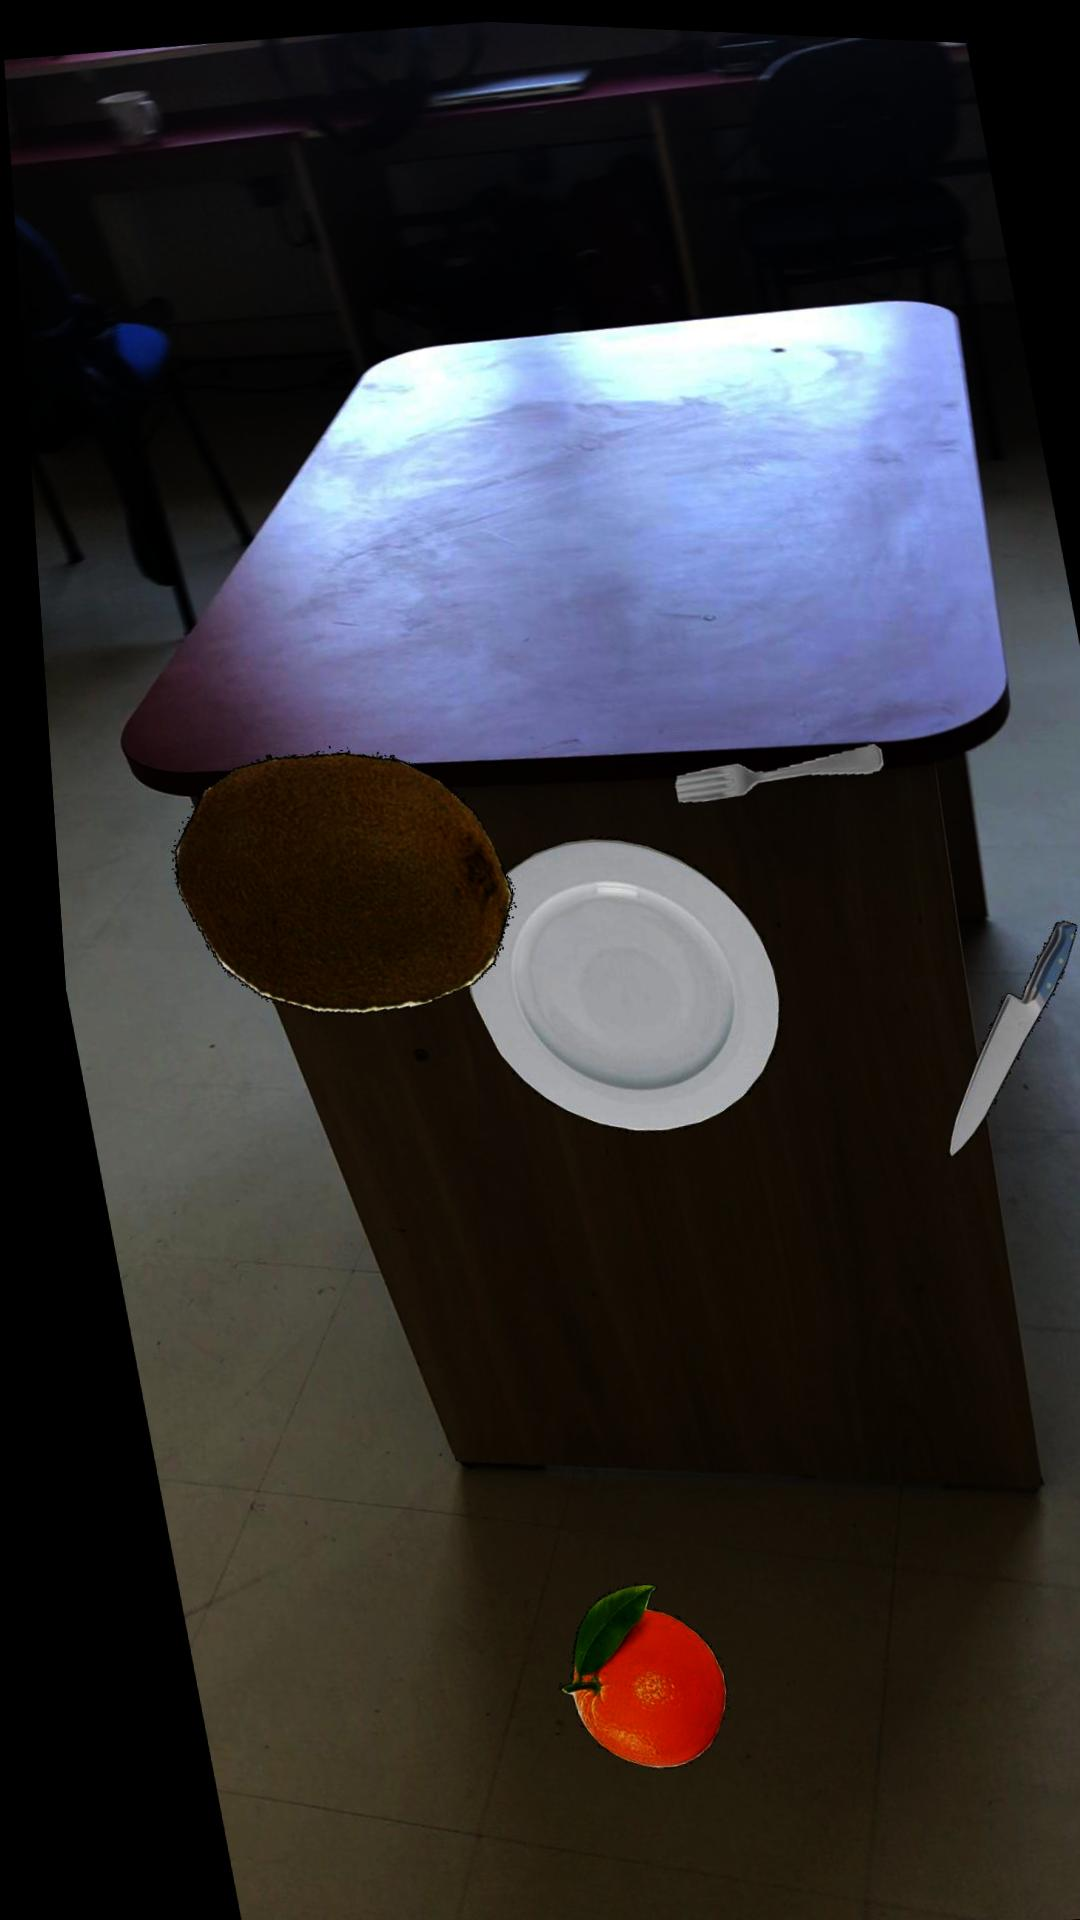fork: (659, 733, 872, 796)
kiwi: (160, 748, 498, 1010)
knife: (931, 910, 1062, 1146)
orange: (534, 1577, 702, 1762)
plate: (452, 829, 765, 1125)
